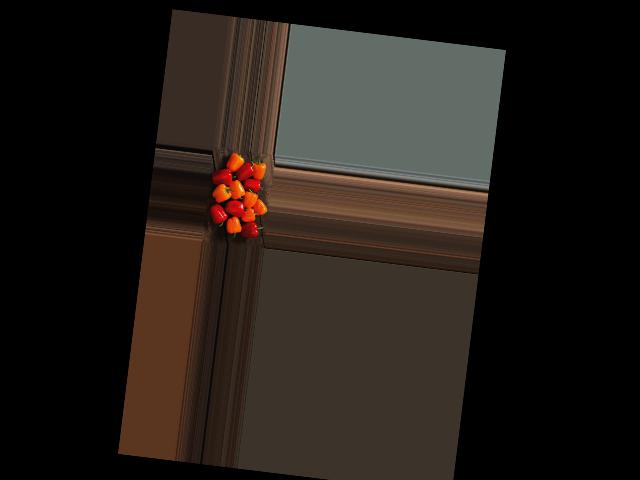bell_pepper: (221, 151, 245, 178)
